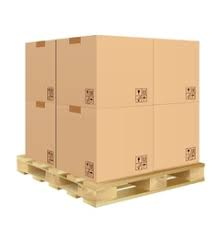box: (97, 33, 153, 107), (97, 106, 152, 181), (153, 36, 201, 106), (56, 105, 98, 183), (153, 103, 200, 167), (56, 34, 97, 106), (23, 103, 56, 169), (24, 36, 56, 104)
pallet: (14, 151, 207, 208)
